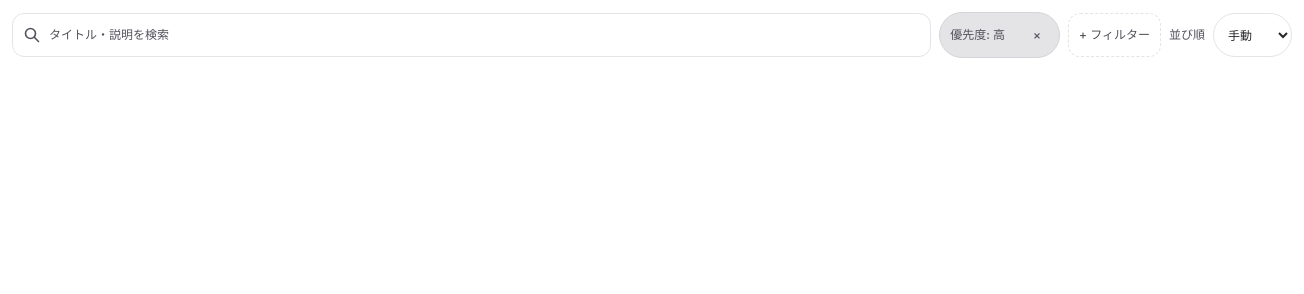
TodoFilterBar › 選択済み属性 ["priority"] をフィルターメニューから除外する
The image size is (1304, 294).
Click the button with aria-label "フィルターを追加": [1114, 35] box left=1068, top=13, right=1161, bottom=57
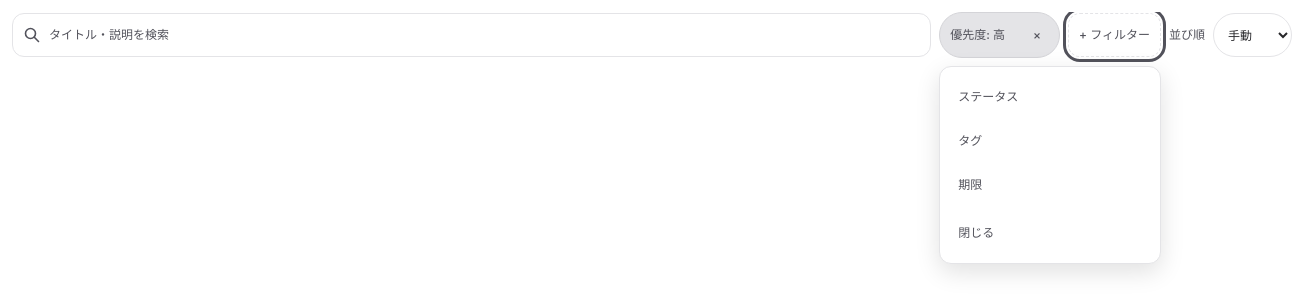
Check: the menu item "ステータス" is shown, box left=948, top=75, right=1152, bottom=119
Check: the menu item "タグ" is shown, box left=948, top=119, right=1152, bottom=163
Check: the menu item "期限" is shown, box left=948, top=163, right=1152, bottom=207
